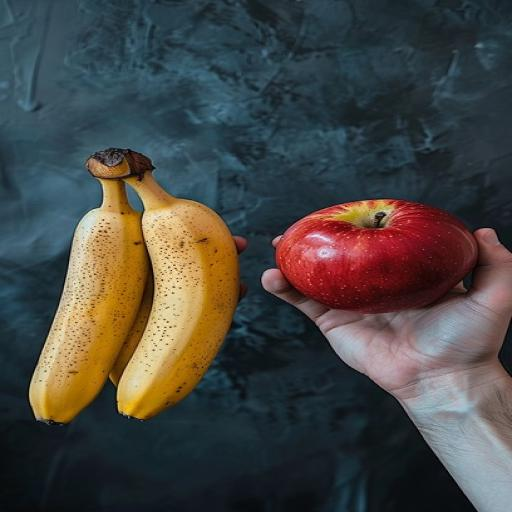apple: (275, 200, 478, 312)
banana: (117, 172, 239, 420), (29, 179, 149, 424)
